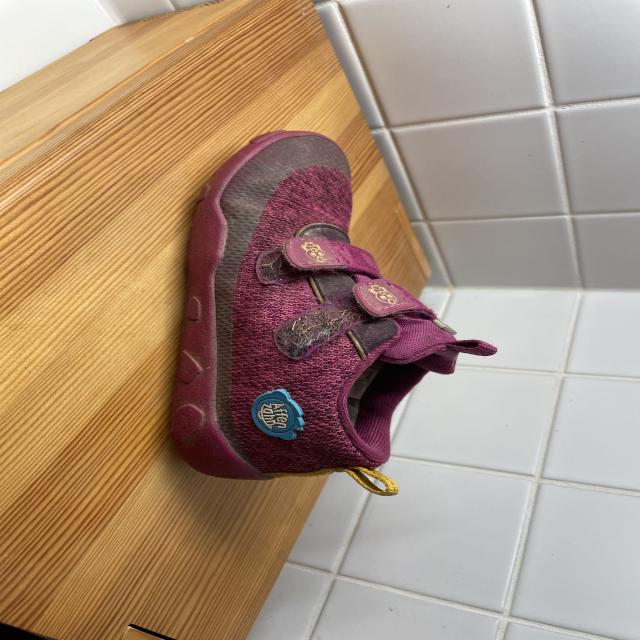shoe: (166, 128, 495, 498)
